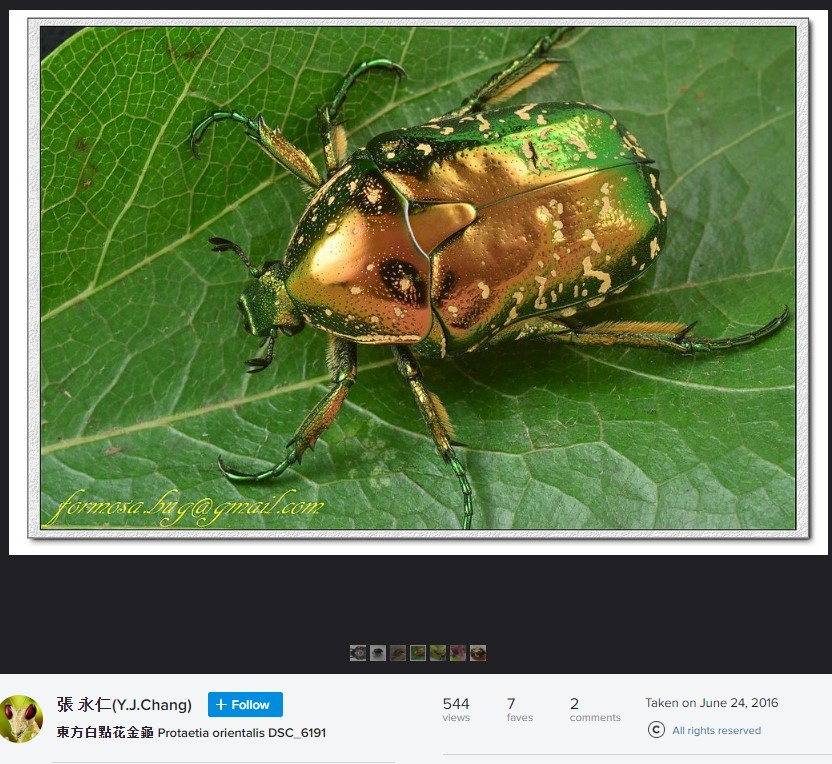Protaetia _orientalis: (187, 31, 770, 496), (144, 407, 262, 424)
